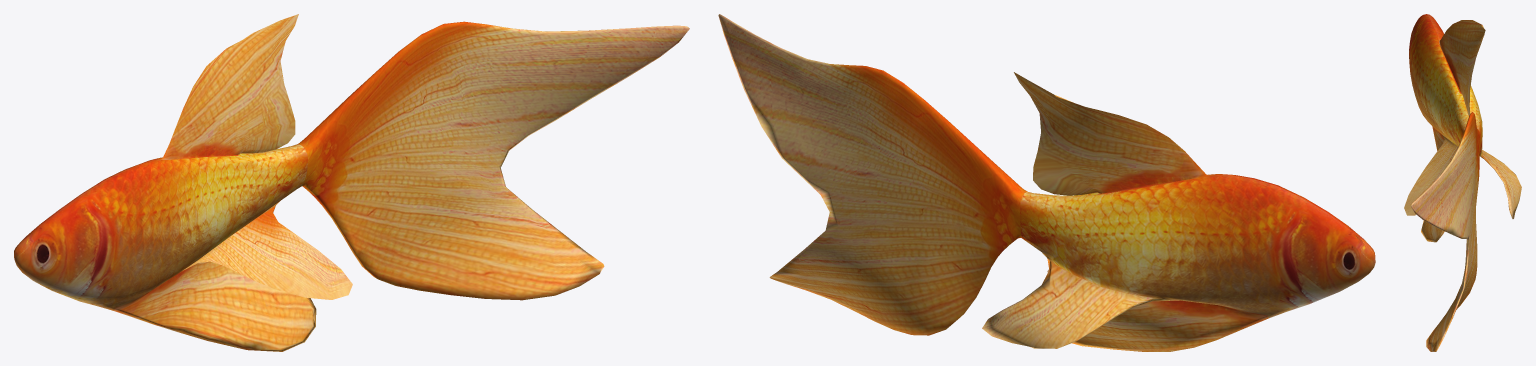
The model's file is Fish.FBX.
3 views of the same model, side by side, from view 1: azimuth 30°, elevation 25°; view 2: azimuth 150°, elevation 25°; view 3: azimuth 270°, elevation 25° (orthographic). The views are drawn at different scales.
Visible parts, largest first — view 1: fish; view 2: fish; view 3: fish.
Part boxes in pixels (x1,y1,x2,y2): fish: (14, 14, 689, 351); fish: (718, 14, 1375, 351); fish: (1404, 14, 1521, 351).
Bounding box in the file's own units: 10.71 × 4.74 × 2.25.
Materials: 1 (1 with a texture image).
